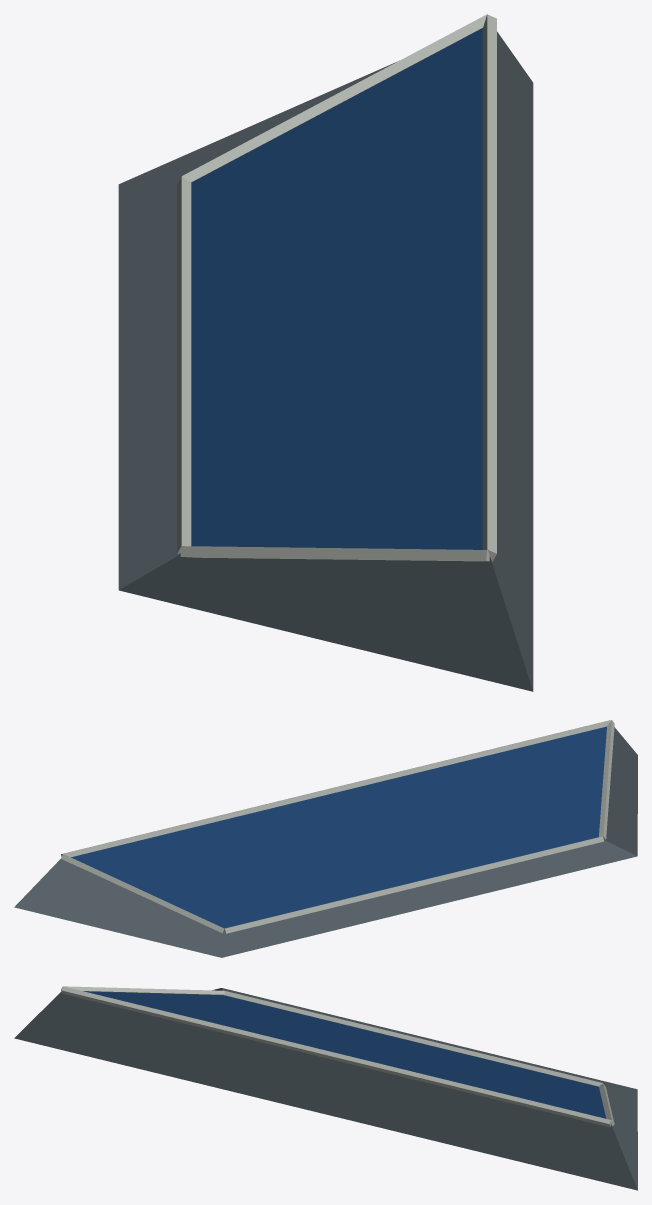
Rendered from bevel3.glb.
3 renders of one model, top to bottom at view 1: azimuth 30°, elevation 25°; view 2: azimuth 150°, elevation 25°; view 3: azimuth 270°, elevation 25°, orthographic. The views are drawn at different scales.
Parts seen in each view (by area): view 1: bevel3; view 2: bevel3; view 3: bevel3.
Boxes of the visible parts, x1=… form: bevel3: x1=118, y1=14, x2=533, y2=691; bevel3: x1=14, y1=720, x2=637, y2=957; bevel3: x1=14, y1=986, x2=637, y2=1190.
Bounding box in the file's own units: 43.95 × 5.33 × 57.16.
